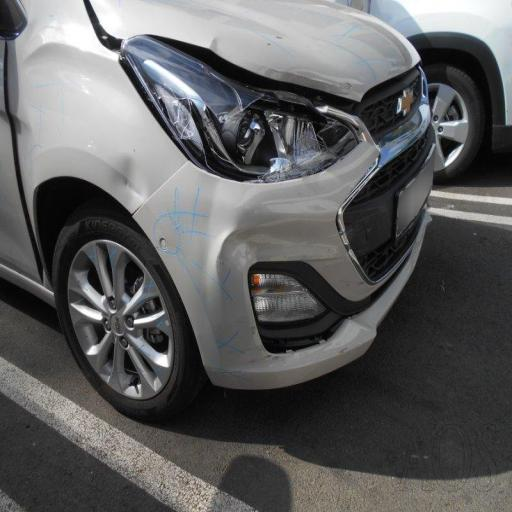dent: (94, 111, 143, 237)
scratch: (155, 167, 271, 383)
